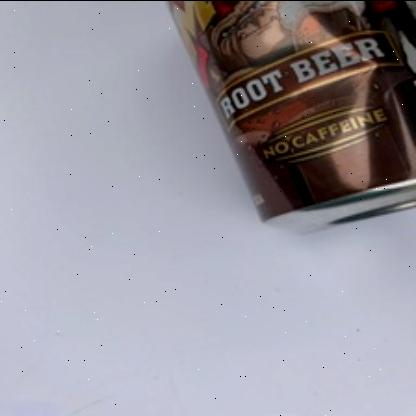Can: (164, 0, 416, 237)
